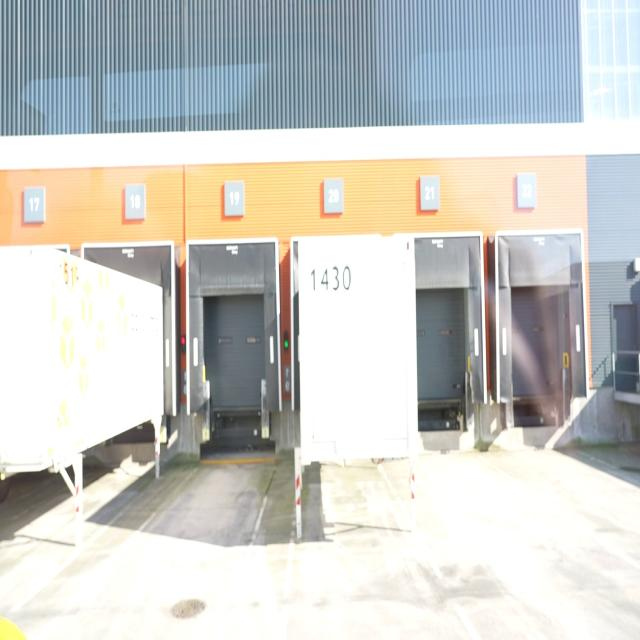Code: (306, 259, 354, 296)
